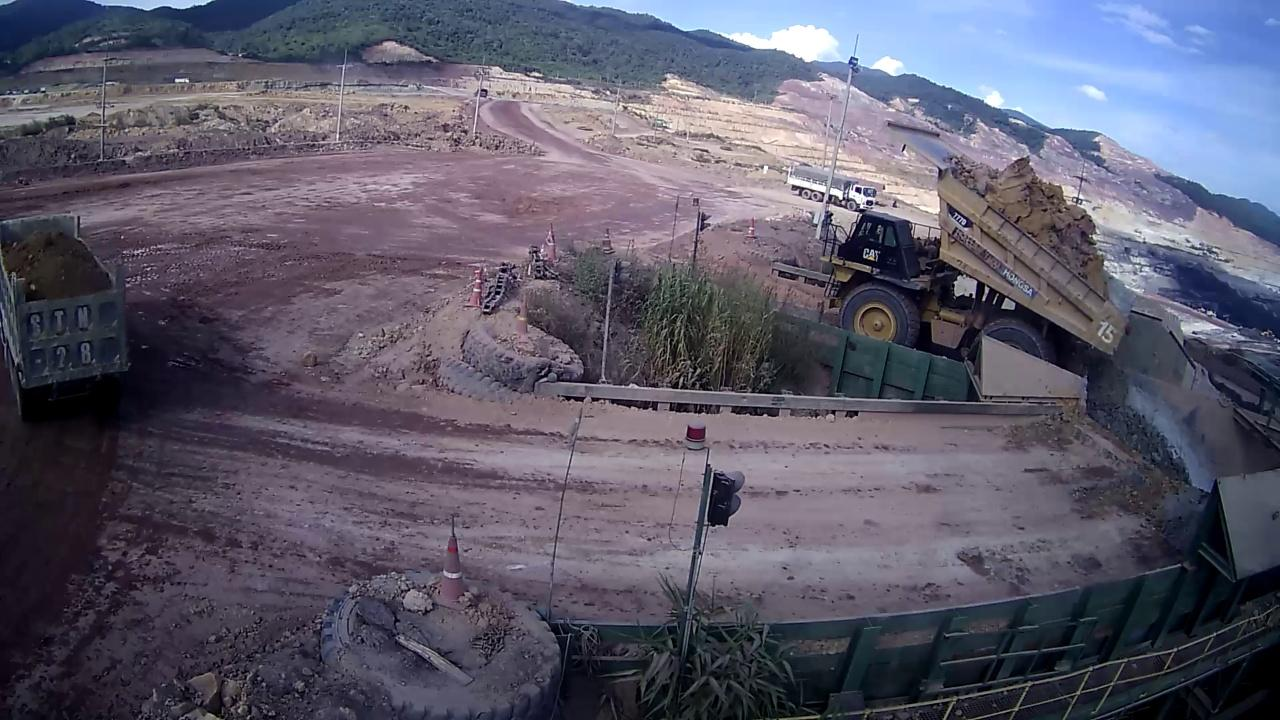company: (949, 228, 1037, 297)
dumping_soil: (816, 140, 1136, 385)
full_load: (990, 152, 1127, 241)
tail_number: (1091, 316, 1120, 347)
truck_size: (946, 204, 972, 230)
